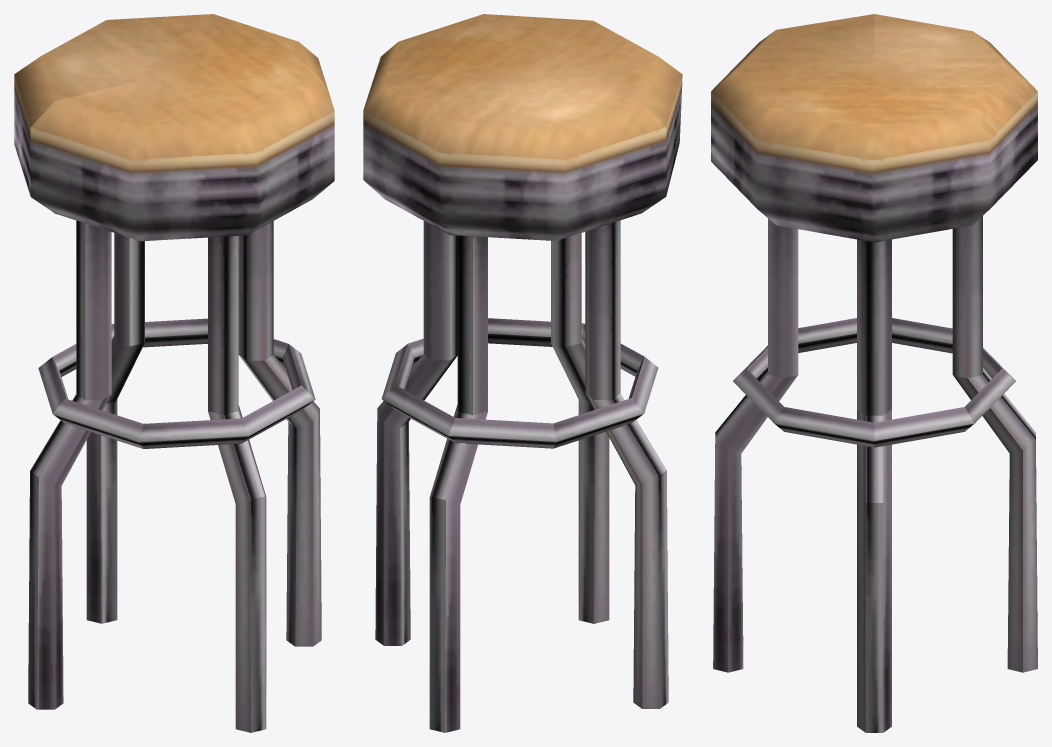
Rendered from barstool1.fbx.
3 views of the same model, side by side, from view 1: azimuth 30°, elevation 25°; view 2: azimuth 150°, elevation 25°; view 3: azimuth 270°, elevation 25° (orthographic).
Parts seen in each view (by area): view 1: mesh_0; view 2: mesh_0; view 3: mesh_0.
Part boxes in pixels (bbox=[...]): mesh_0: bbox=[14, 14, 334, 732]; mesh_0: bbox=[363, 14, 682, 732]; mesh_0: bbox=[711, 14, 1037, 732].
Size of the model in its own units: 40 by 80 by 40.
Materials: 1 (1 with a texture image).
